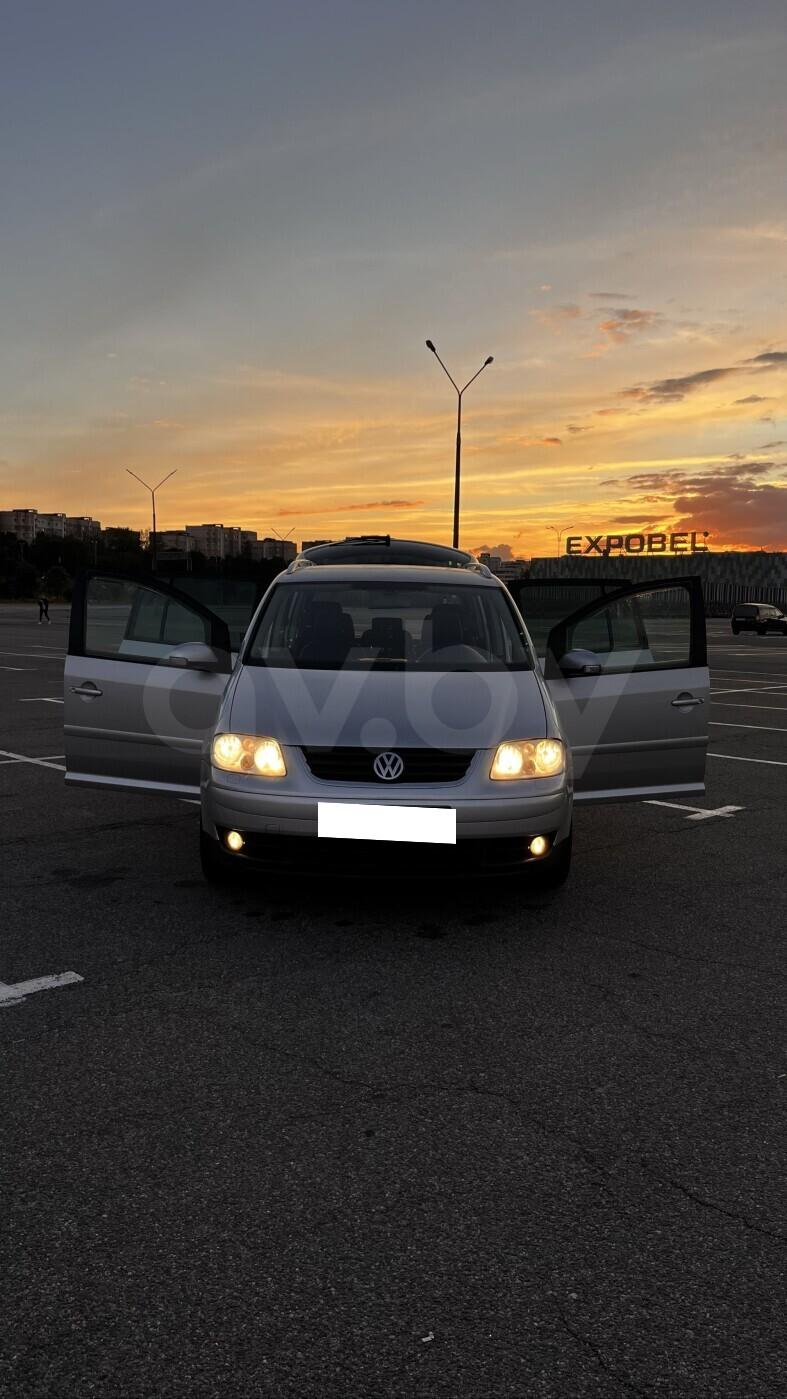Touran_2003-2006: (64, 540, 714, 910)
